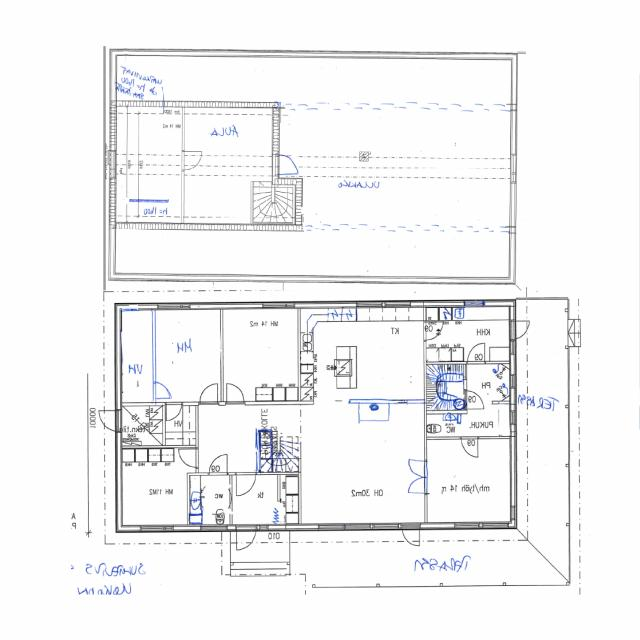door: (96, 411, 122, 432), (237, 524, 256, 552), (402, 524, 420, 548), (273, 156, 297, 174), (510, 321, 532, 339), (209, 453, 227, 475), (237, 472, 255, 494), (200, 384, 217, 406), (227, 384, 244, 406), (424, 322, 444, 340), (464, 391, 484, 409), (182, 151, 202, 169), (461, 437, 478, 457), (468, 344, 484, 364), (180, 450, 198, 467), (152, 382, 171, 398), (166, 402, 182, 421), (409, 462, 427, 478), (409, 478, 427, 493)
